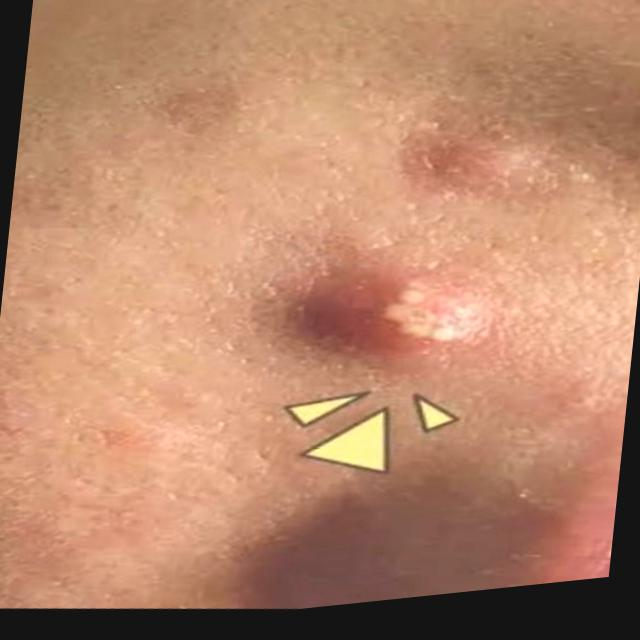nodule: (272, 269, 529, 385)
